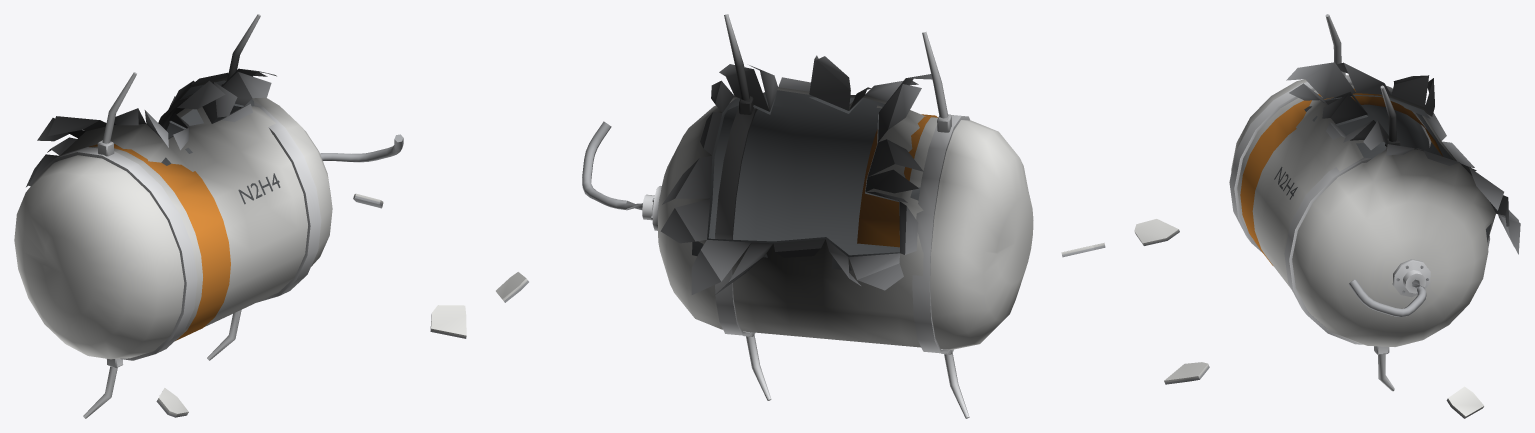
The model's file is debris_c.glb.
3 views of the same model, side by side, from view 1: azimuth 30°, elevation 25°; view 2: azimuth 150°, elevation 25°; view 3: azimuth 270°, elevation 25° (orthographic). The views are drawn at different scales.
Parts seen in each view (by area): view 1: debris_c_mesh; view 2: debris_c_mesh; view 3: debris_c_mesh.
Part boxes in pixels (x1=…): debris_c_mesh: x1=14, y1=14, x2=466, y2=418; debris_c_mesh: x1=496, y1=14, x2=1105, y2=418; debris_c_mesh: x1=1134, y1=14, x2=1520, y2=418.
Bounding box in the file's own units: 2.01 × 1.62 × 1.74.
